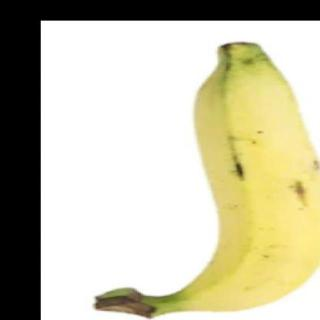banana: (175, 38, 319, 318)
